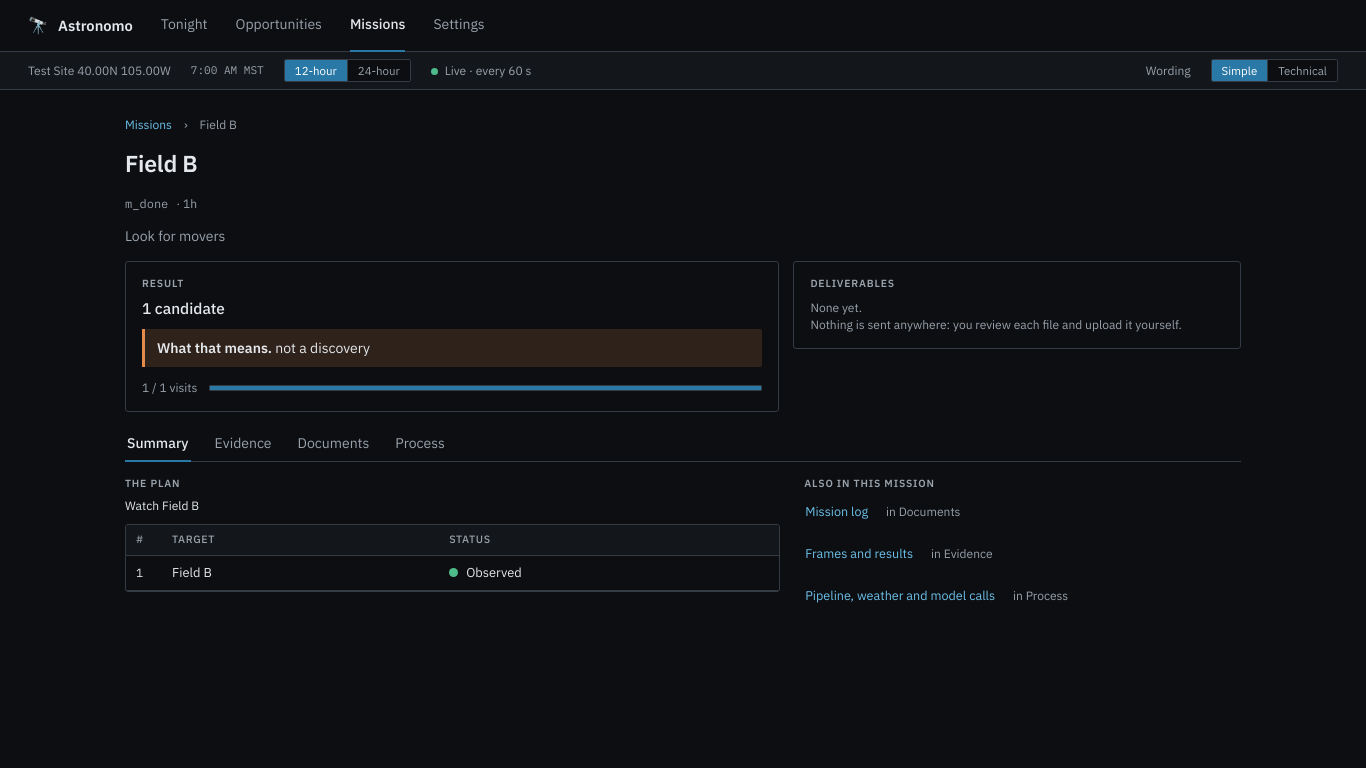
Scenario: Process lists each language-model prompt and response
expect the heading "Field B" is shown: met, box [125,148,197,178]
Click the button "Process": coordinates (420, 444) [393,426,447,462]
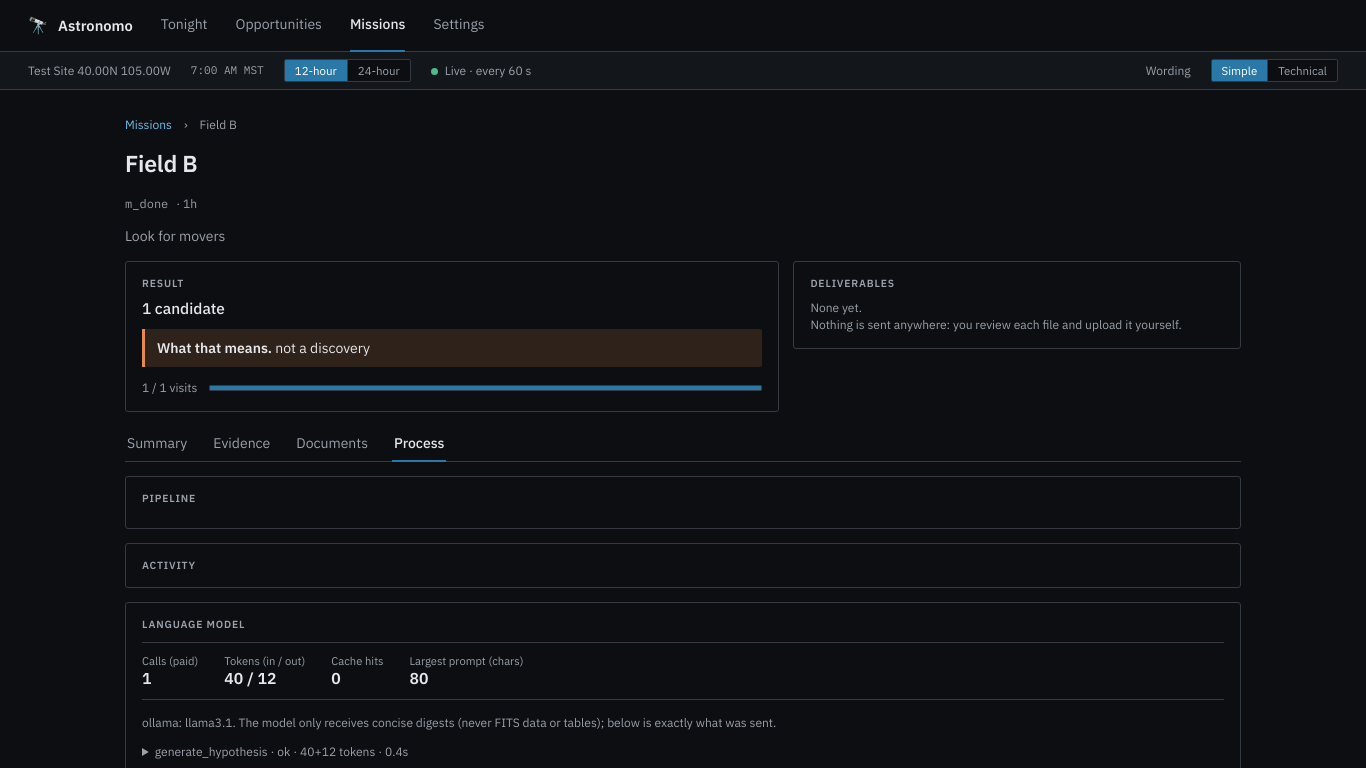
expect the text "Calls (paid)" is shown: met, box [142,653,198,669]
Click the heading "generate_hypothesis · ok · 40+12 tokens · 0.4s": coordinates (282, 752) [155,744,408,759]
(page scrolled)
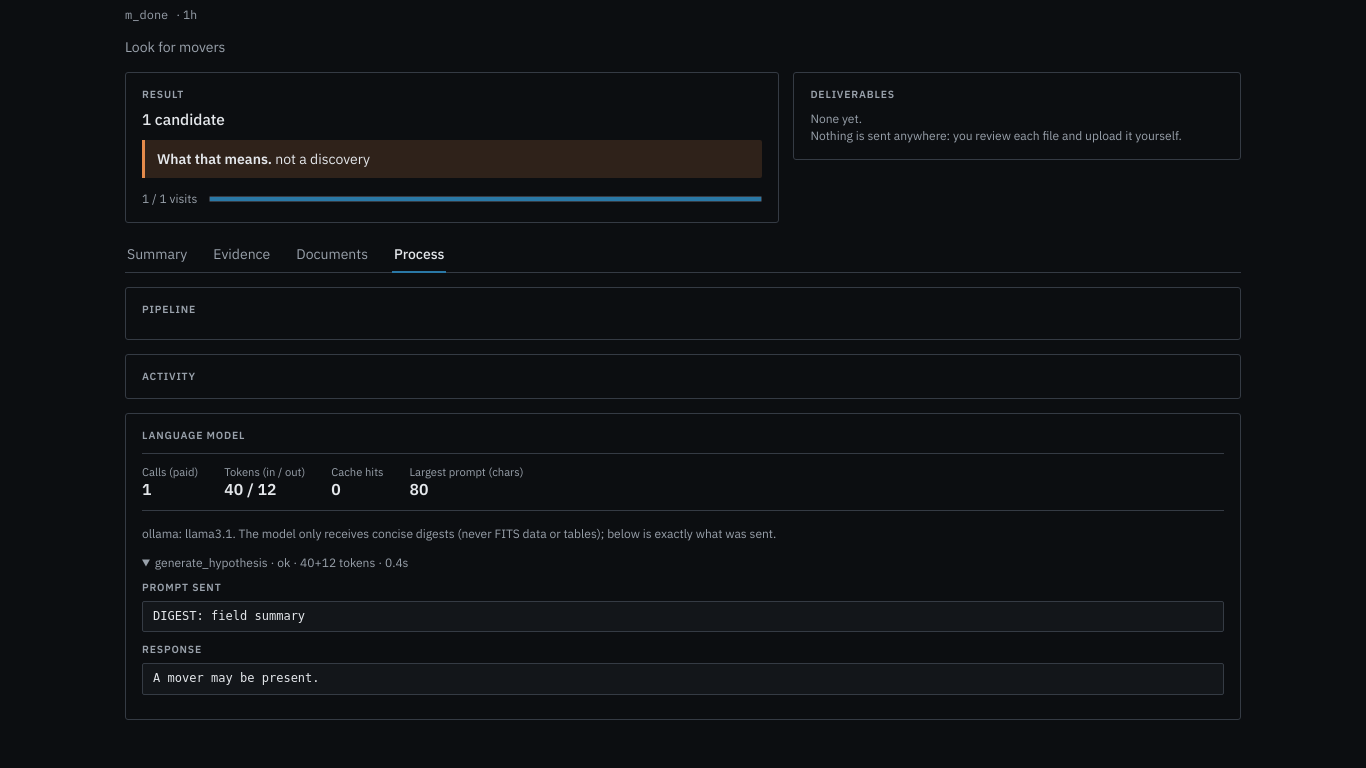
expect the text "DIGEST: field summary" is shown: met, box [142,601,1224,632]
expect the text "A mover may be present." is shown: met, box [142,663,1224,695]
